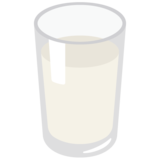glass of milk: (39, 9, 113, 148)
